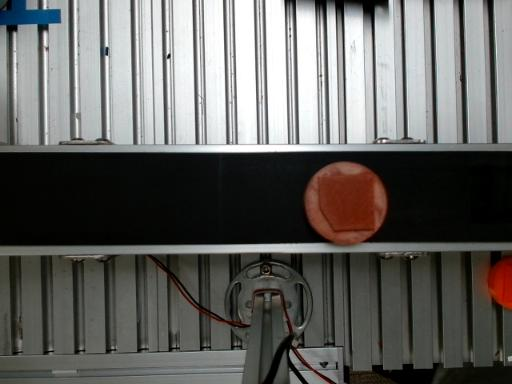Brown_Waper: (304, 162, 387, 244)
Not_Square: (318, 173, 377, 231)
